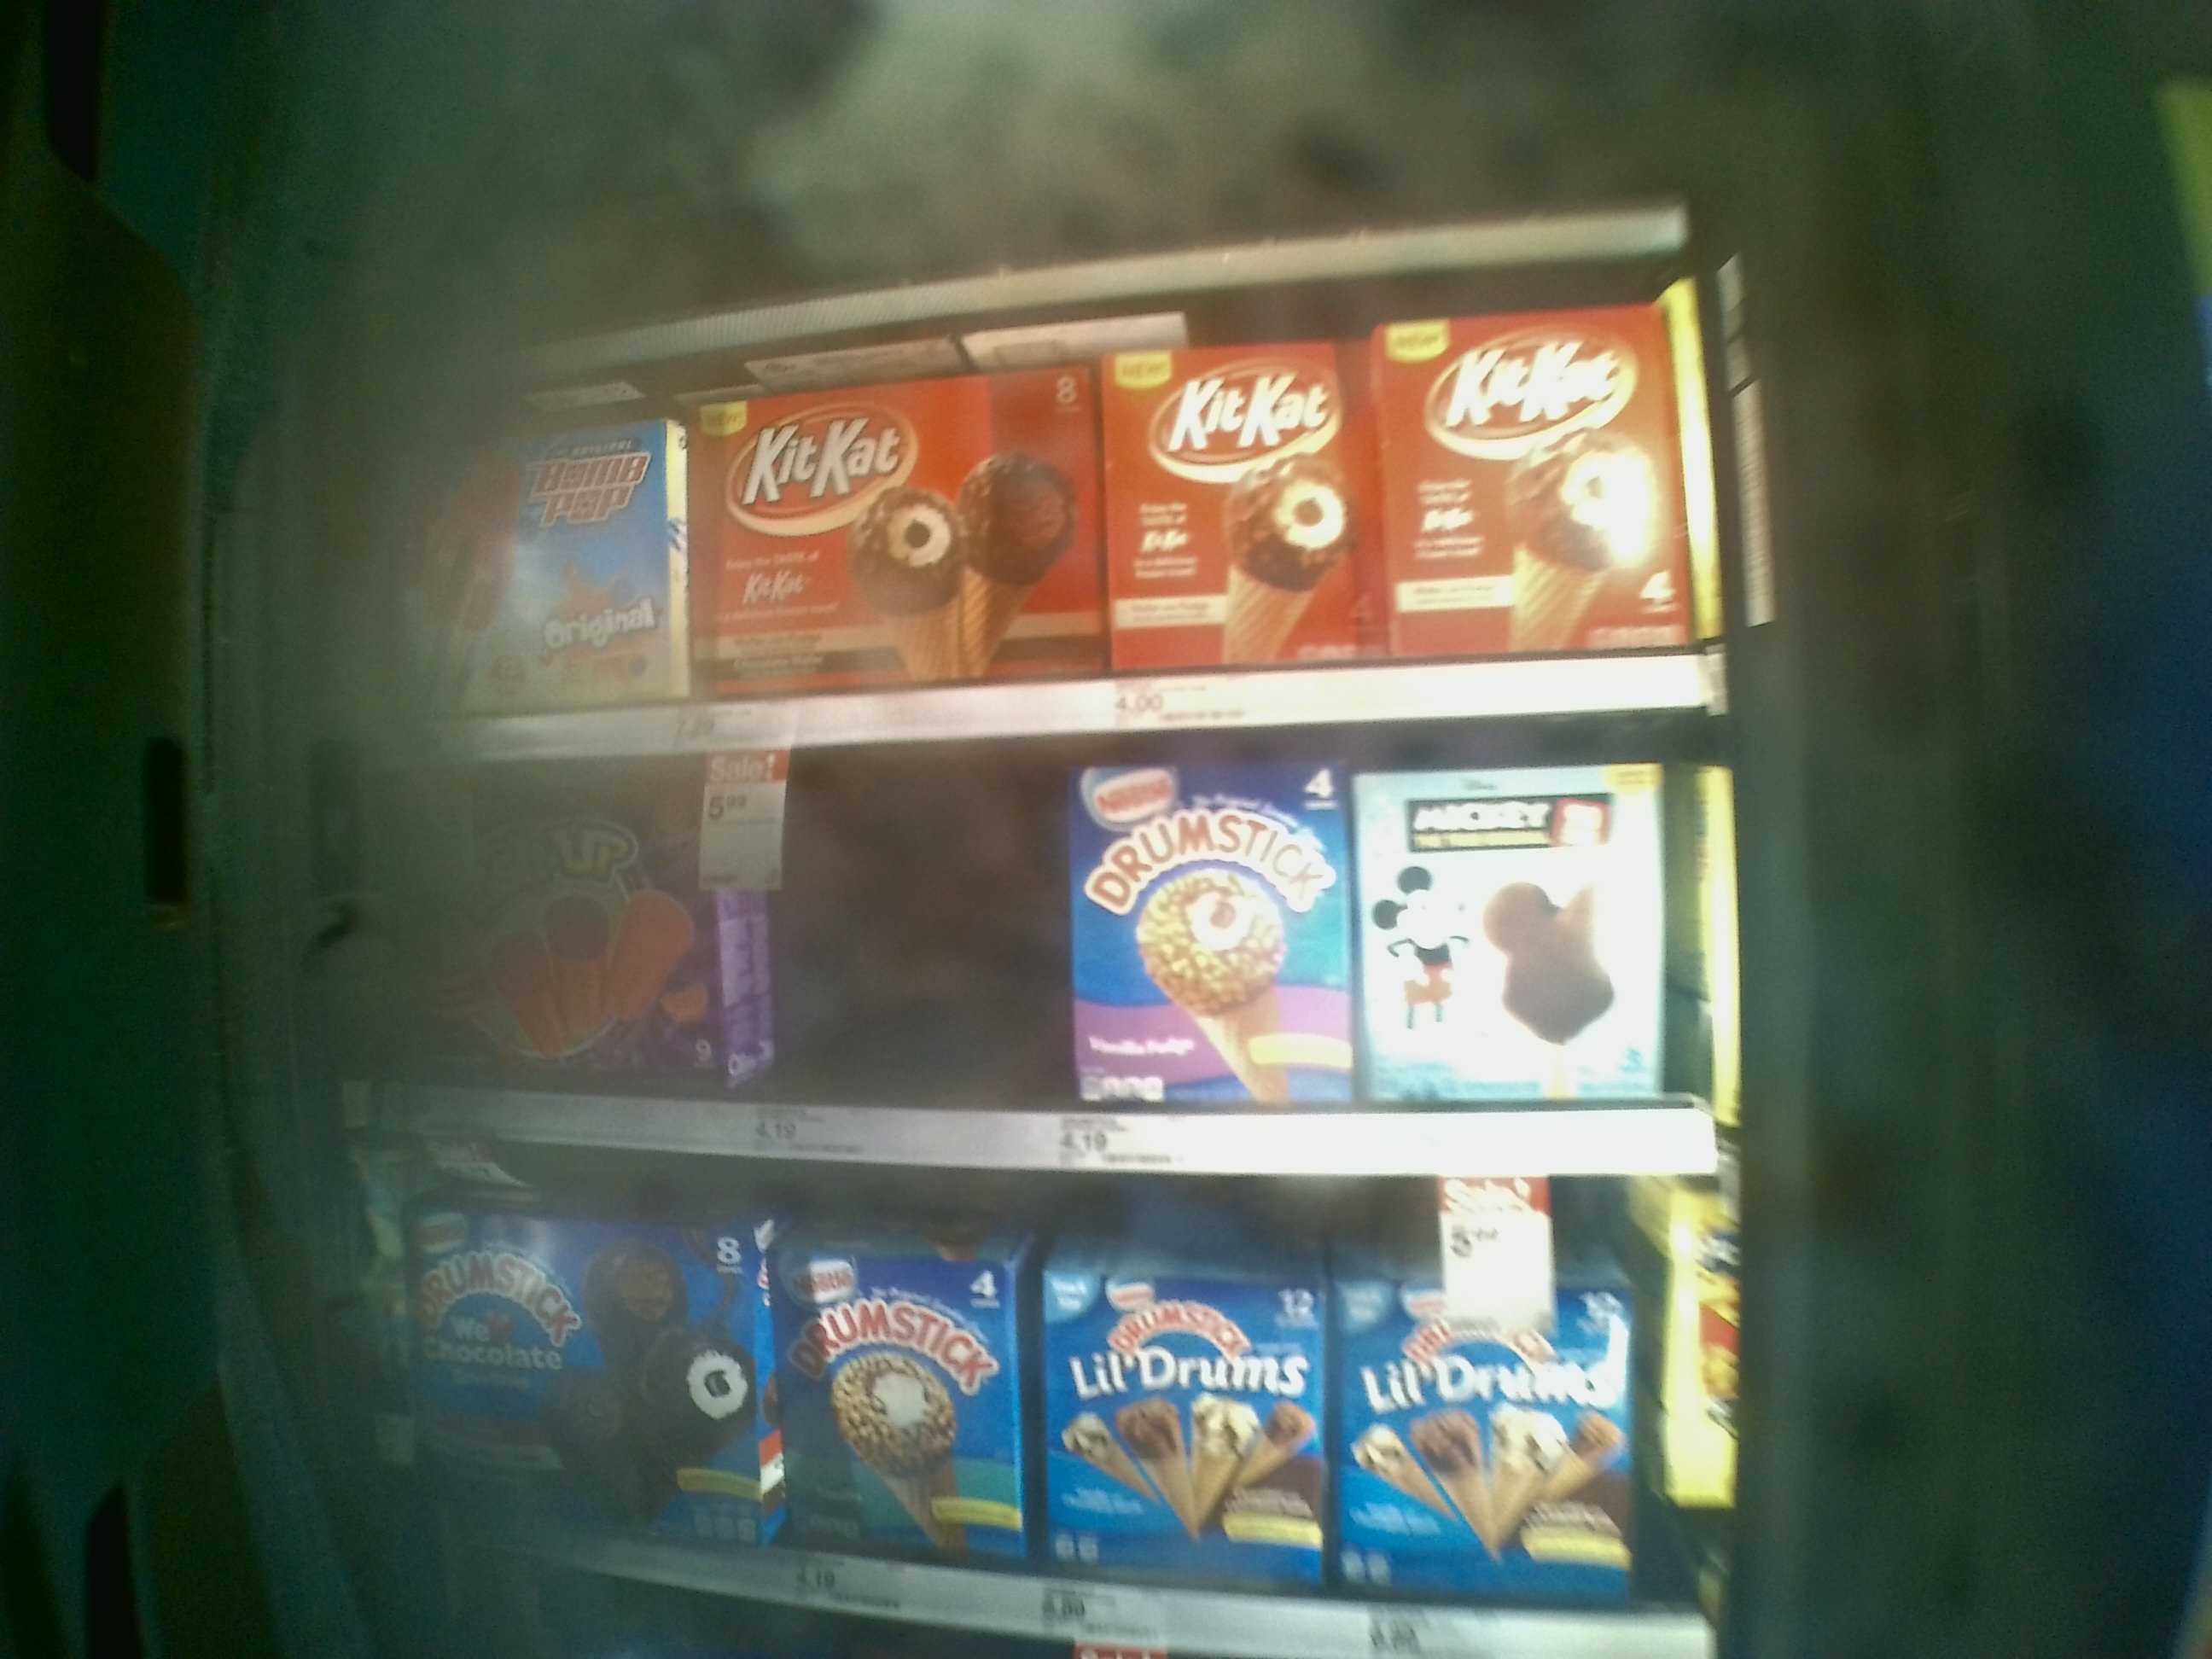shelf: (376, 706, 1742, 1183), (380, 272, 1721, 753)
